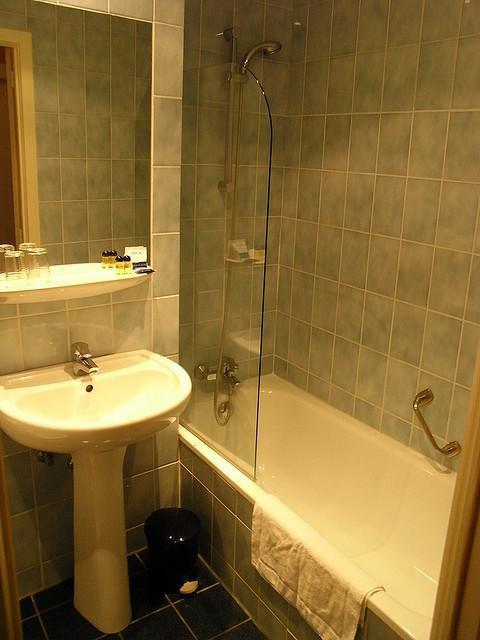Bote de Basura: (142, 507, 201, 588)
Ducha: (186, 23, 330, 476)
Lavamanos: (0, 346, 182, 639)
